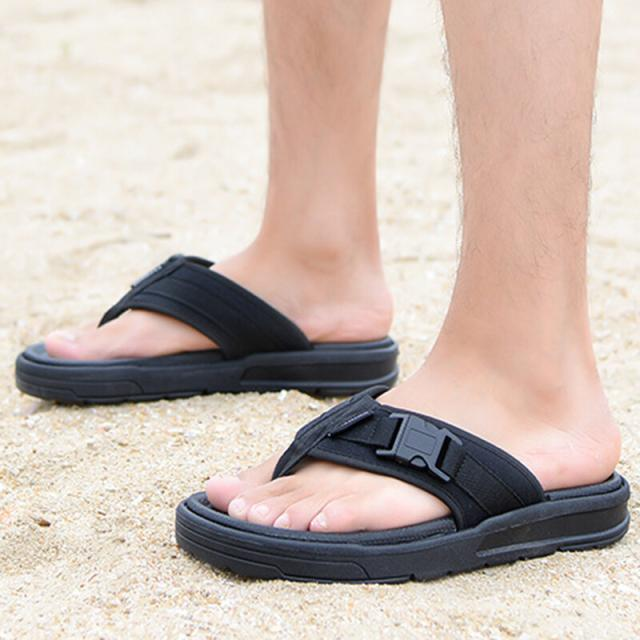Sandals: (12, 230, 632, 610)
